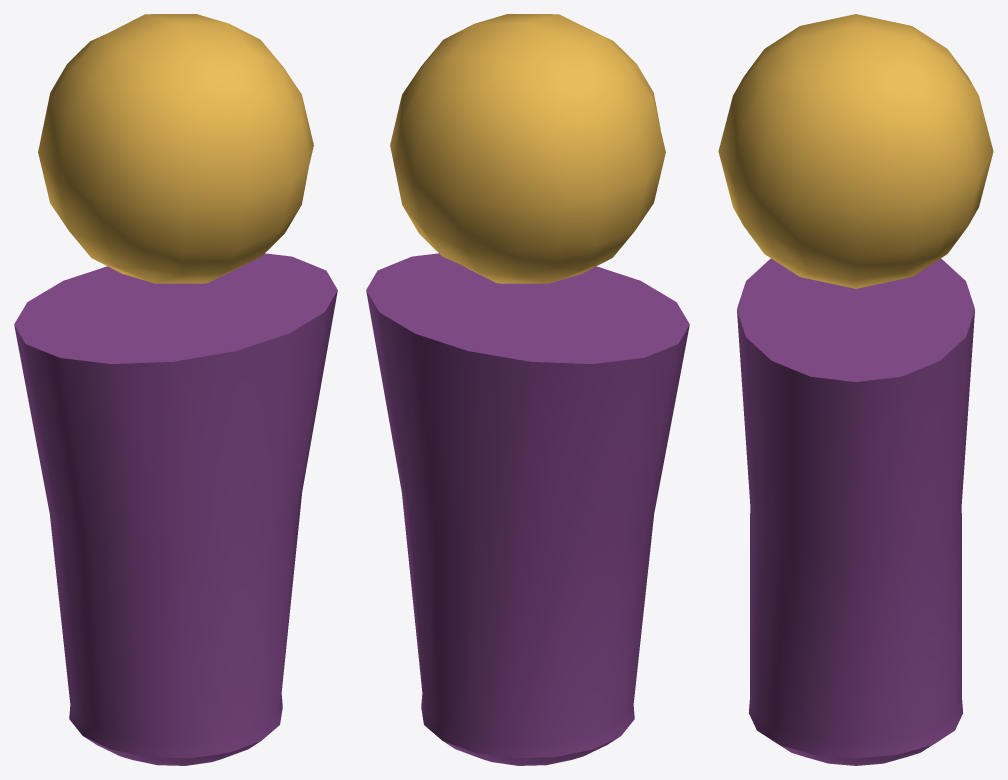
Rendered from Personagem1.fbx.
3 renders of one model, left to right at view 1: azimuth 30°, elevation 25°; view 2: azimuth 150°, elevation 25°; view 3: azimuth 270°, elevation 25°, orthographic.
Parts seen in each view (by area): view 1: Sphere.008; view 2: Sphere.008; view 3: Sphere.008.
Boxes of the visible parts, x1,y1,x2,y2 form: Sphere.008: (14,14,337,765); Sphere.008: (366,14,689,765); Sphere.008: (718,14,993,765).
Bounding box in the file's own units: 268 × 618 × 213.
